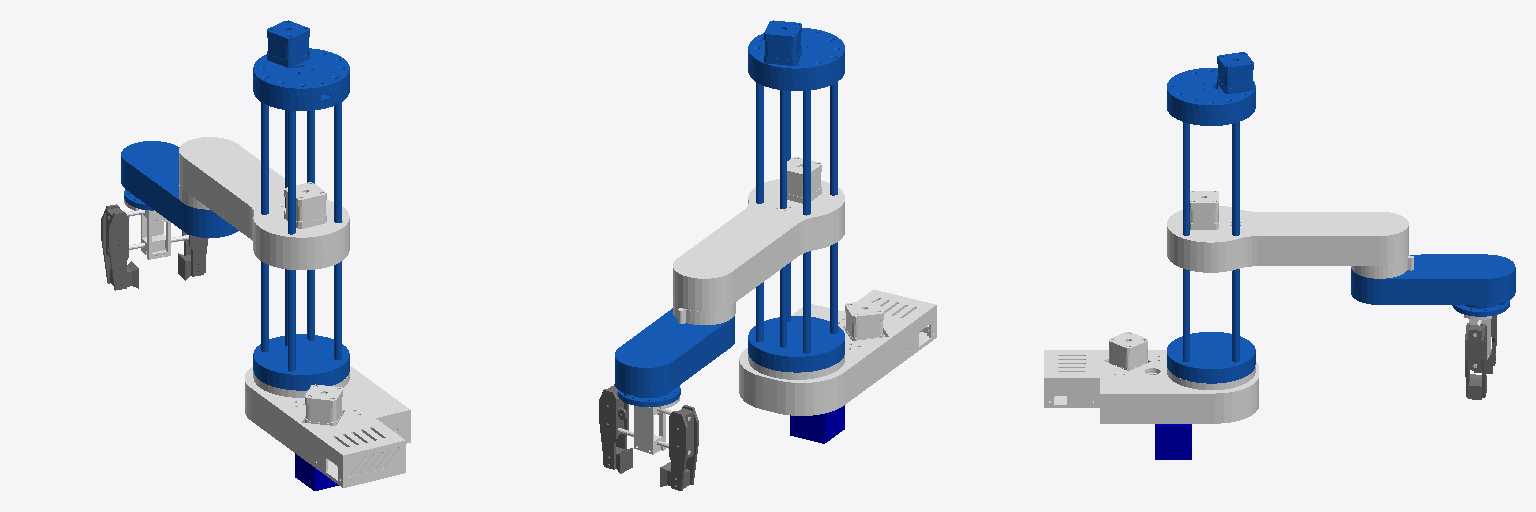
robot.urdf — manito:
<?xml version="1.0" encoding="utf-8"?>
<robot name="manito">

  <!-- ================= MATERIALES ================= -->
  <material name="robot_white">
    <color rgba="0.95 0.95 0.95 1.0"/>
  </material>
  <material name="robot_blue">
    <color rgba="0.1 0.4 0.8 1.0"/>
  </material>
  <material name="robot_gray_joint">
    <color rgba="0.5 0.5 0.5 1.0"/>
  </material>
  <material name="base_blue_transparent">
    <color rgba="0.0 0.0 0.8 0.5"/>
  </material>

  <link name="base_link">
    <visual>
      <geometry>
        <box size="0.05 0.05 0.05"/>
      </geometry>
      <material name="base_blue_transparent">
      </material>
    </visual>
  </link>

  <!-- ==================== LINK 1 ==================== -->
  <link name="Link_1">
    <inertial>
      <origin xyz="-0.0061196 -0.014834 0.033593" rpy="0 0 0"/>
      <mass value="0.76046"/>
      <inertia ixx="0.0025082" ixy="-4.3537E-06" ixz="-4.74E-06"
               iyy="0.0013747" iyz="-1.4847E-05" izz="0.0036723"/>
    </inertial>
    <visual>
      <geometry>
        <mesh filename="package://meshes/link_1.stl"/>
      </geometry>
      <material name="robot_white"/>
    </visual>
    <collision>
      <geometry>
        <mesh filename="package://meshes/link_1.stl"/>
      </geometry>
    </collision>
  </link>

  <!-- Joint que conecta base con Link_1 -->
  <joint name="base_to_link1" type="fixed">
    <parent link="base_link"/>
    <child link="Link_1"/>
    <origin xyz="0 0 0.05"/>
  </joint>

  <!-- ==================== LINK 2 ==================== -->
  <link name="Link_2">
    <inertial>
      <origin xyz="0.0019558 0.0060429 0.27615" rpy="0 0 0"/>
      <mass value="0.41562"/>
      <inertia ixx="0.002108" ixy="3.4914E-06" ixz="-4.5883E-07"
               iyy="0.0021187" iyz="-8.9137E-07" izz="0.00038723"/>
    </inertial>
    <visual>
      <geometry>
        <mesh filename="package://meshes/link_2.stl"/>
      </geometry>
      <material name="robot_blue"/>
    </visual>
    <collision>
      <geometry>
        <mesh filename="package://meshes/link_2.stl"/>
      </geometry>
    </collision>
  </link>

  <!-- =========== JOINT 1 (Link_1 → Link_2) ========== -->
  <joint name="Joint_1" type="revolute">
    <origin xyz="-6.0162E-05 0.050566 0.0765" rpy="0 0 0.3174"/>
    <!-- <origin xyz="-6.0162E-05 0.050566 0.0765" rpy="0 0 0"/> -->
    <parent link="Link_1"/>
    <child link="Link_2"/>
    <axis xyz="0 0 1"/>
    <!-- LIMITACIÓN ORIGINAL: Exportada de CAD, restringe el hombro estrictamente de -90 a +90 grados. -->
    <!-- <limit lower="-1.57" upper="1.57" effort="10" velocity="0.5"/> -->
    <limit lower="-3.14" upper="3.14" effort="10" velocity="0.5"/>
  </joint>

  <!-- ==================== LINK 3 ==================== -->
  <link name="Link_3">
    <inertial>
      <origin xyz="0.029085 0.088235 -0.02114" rpy="0 0 0"/>
      <mass value="0.54586"/>
      <inertia ixx="0.0011589" ixy="-0.00022605" ixz="1.9736E-06"
               iyy="0.00055347" iyz="5.3963E-06" izz="0.0015701"/>
    </inertial>
    <visual>
      <geometry>
        <mesh filename="package://meshes/link_3.stl"/>
      </geometry>
      <material name="robot_white"/>
    </visual>
    <collision>
      <geometry>
        <mesh filename="package://meshes/link_3.stl"/>
      </geometry>
    </collision>
  </link>

  <!-- =========== JOINT 2 (Link_2 → Link_3) ========== -->
  <joint name="Joint_2" type="prismatic">
    <origin xyz="0.0010426 0.0031605 0.18854" rpy="0 0 0"/>
    <parent link="Link_2"/>
    <child link="Link_3"/>
    <axis xyz="0 0 1"/>
    <limit lower="-0.1" upper="0.1" effort="10" velocity="0.05"/>
  </joint>

  <!-- ==================== LINK 4 ==================== -->
  <link name="Link_4">
    <inertial>
      <origin xyz="-0.012001 0.081545 -0.033366" rpy="0 0 0"/>
      <mass value="0.3057"/>
      <inertia ixx="0.0010288" ixy="0.0001323" ixz="3.8752E-07"
               iyy="0.00021258" iyz="-2.5397E-06" izz="0.0012127"/>
    </inertial>
    <visual>
      <geometry>
        <mesh filename="package://meshes/link_4.stl"/>
      </geometry>
      <material name="robot_blue"/>
    </visual>
    <collision>
      <geometry>
        <mesh filename="package://meshes/link_4.stl"/>
      </geometry>
    </collision>
  </link>

  <!-- =========== JOINT 3 (Link_3 → Link_4) ========== -->
  <joint name="Joint_3" type="revolute">
    <origin xyz="0.069787 0.2124 -0.05425" rpy="0 0 -0.4712"/>
    <!-- <origin xyz="0.069787 0.2124 -0.05425" rpy="0 0 0"/> -->
    <parent link="Link_3"/>
    <child link="Link_4"/>
    <axis xyz="0 0 1"/>
    <!-- LIMITACIÓN ORIGINAL: Limita asimétricamente asfixiando el cerrado interno del codo sobre la base. -->
    <!-- <limit lower="-2.30" upper="1.90" effort="10" velocity="0.5"/> -->
    <limit lower="-3.14" upper="3.14" effort="10" velocity="0.5"/>
  </joint>

  <!-- ==================== LINK 5 ==================== -->
  <link name="Link_5">
    <inertial>
      <origin xyz="0.00025678 0.00063953 -0.042464" rpy="0 0 0"/>
      <mass value="0.042956"/>
      <inertia ixx="1.7736E-05" ixy="-4.1485E-07" ixz="-2.5161E-08"
               iyy="3.3206E-05" iyz="7.2522E-08" izz="1.7422E-05"/>
    </inertial>
    <visual>
      <geometry>
        <mesh filename="package://meshes/link_5.stl"/>
      </geometry>
      <material name="robot_white"/>
    </visual>
    <collision>
      <geometry>
        <mesh filename="package://meshes/link_5.stl"/>
      </geometry>
    </collision>
  </link>

    <!-- =========== JOINT 4 (Link_4 → Link_5) ========== -->
  <joint name="Joint_4" type="revolute">
    <origin xyz="-0.020922 0.13502 -0.0535" rpy="0 0 0"/>
    <parent link="Link_4"/>
    <child link="Link_5"/>
    <axis xyz="0 0 1"/>
    <limit lower="-1.57" upper="1.57" effort="10" velocity="0.5"/>
  </joint>

  <!-- ==================== LINK 6 ==================== -->
  <link name="Link_6">
    <inertial>
      <origin xyz="-0.050263 -0.012836 -0.021665" rpy="0 0 0"/>
      <mass value="0.04619"/>
      <inertia ixx="2.0517E-05" ixy="-3.5568E-08" ixz="1.5251E-07"
               iyy="2.1858E-05" iyz="4.042E-09" izz="3.0443E-06"/>
    </inertial>
    <visual>
      <geometry>
        <mesh filename="package://meshes/link_6.stl"/>
      </geometry>
      <material name="robot_gray_joint"/>
    </visual>
    <collision>
      <geometry>
        <mesh filename="package://meshes/link_6.stl"/>
      </geometry>
    </collision>
  </link>

  <!-- ==================== LINK 7 ==================== -->
  <link name="Link_7">
    <inertial>
      <origin xyz="0.052863 -0.010103 -0.021665" rpy="0 0 0"/>
      <mass value="0.04619"/>
      <inertia ixx="2.0517E-05" ixy="-3.5568E-08" ixz="-1.5251E-07"
               iyy="2.1858E-05" iyz="-4.042E-09" izz="3.0443E-06"/>
    </inertial>
    <visual>
      <geometry>
        <mesh filename="package://meshes/link_7.stl"/>
      </geometry>
      <material name="robot_gray_joint"/>
    </visual>
    <collision>
      <geometry>
        <mesh filename="package://meshes/link_7.stl"/>
      </geometry>
    </collision>
  </link>

      <!-- =========== JOINT 5 (Link_5 → Link_6) ========== -->
  <joint name="Joint_5" type="prismatic">
    <origin xyz="-2.4352E-05 0.012443 -0.051729" rpy="0 0 0"/>
    <parent link="Link_5"/>
    <child link="Link_6"/>
    <axis xyz="1 0 0"/>
    <limit lower="0.0" upper="0.025" effort="10" velocity="0.05"/>
  </joint>

  <!-- =========== JOINT 6 (Link_5 → Link_7) ========== -->
  <joint name="Joint_6" type="prismatic">
    <origin xyz="-2.4352E-05 0.012443 -0.051729" rpy="0 0 0"/>
    <parent link="Link_5"/>
    <child link="Link_7"/>
    <axis xyz="1 0 0"/>
    <!-- <limit lower="0.0" upper="0.025" effort="10" velocity="0.05"/> -->
    <limit lower="-0.025" upper="0.0" effort="10" velocity="0.05"/>
    <mimic joint="Joint_5" multiplier="-1.0" />
  </joint>

</robot>

--- Render facts (derived) ---
3 views of the same robot in one strip: view 1: azimuth 30°, elevation 25°; view 2: azimuth 150°, elevation 25°; view 3: azimuth 270°, elevation 25° (orthographic).
Model manito with 8 links and 7 joints (3 revolute, 3 prismatic, 1 fixed), rooted at base_link, posed every joint at zero.
Visible links, largest first — view 1: Link_2, Link_1, Link_3, Link_4, Link_6, Link_5, Link_7, base_link; view 2: Link_2, Link_3, Link_1, Link_4, Link_6, Link_7, Link_5, base_link; view 3: Link_3, Link_1, Link_2, Link_4, Link_7, base_link.
Link boxes in pixels (<box>): Link_2: <box>253,20,349,390</box>; Link_1: <box>245,366,410,487</box>; Link_3: <box>179,137,349,269</box>; Link_4: <box>121,141,238,237</box>; Link_6: <box>101,204,138,290</box>; Link_5: <box>108,199,188,259</box>; Link_7: <box>178,231,208,280</box>; base_link: <box>295,453,338,490</box>; Link_2: <box>748,20,844,372</box>; Link_3: <box>673,157,844,324</box>; Link_1: <box>739,290,936,415</box>; Link_4: <box>615,308,734,406</box>; Link_6: <box>660,405,698,490</box>; Link_7: <box>599,384,632,473</box>; Link_5: <box>618,397,690,454</box>; base_link: <box>790,405,844,443</box>; Link_3: <box>1167,191,1413,278</box>; Link_1: <box>1044,332,1258,423</box>; Link_2: <box>1167,52,1255,383</box>; Link_4: <box>1351,254,1515,316</box>; Link_7: <box>1465,323,1486,399</box>; base_link: <box>1155,424,1191,459</box>.
Size in the robot's own frame: 0.14 by 0.6357 by 0.5845 metres.
Meshes: 7 distinct files referenced, 7 mesh visuals loaded (7 binary STL).
